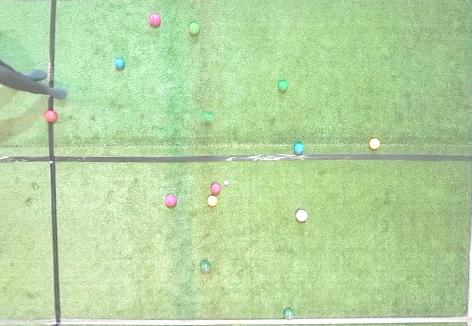blue: (294, 142, 305, 154), (114, 58, 125, 69)
green: (200, 260, 211, 273), (189, 22, 200, 35), (284, 308, 295, 320), (278, 80, 288, 91), (202, 111, 214, 120)
red: (148, 13, 161, 26), (44, 110, 58, 122), (165, 195, 177, 207), (296, 209, 308, 221), (210, 183, 221, 194)
vline: (1, 122, 62, 325), (1, 1, 57, 88), (465, 1, 471, 325), (1, 94, 53, 110)
white: (224, 180, 229, 185)
yellow: (369, 138, 380, 149), (207, 196, 217, 206)
